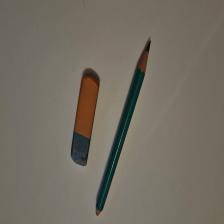eraser: (71, 75, 101, 168)
pencil: (97, 42, 152, 218)
